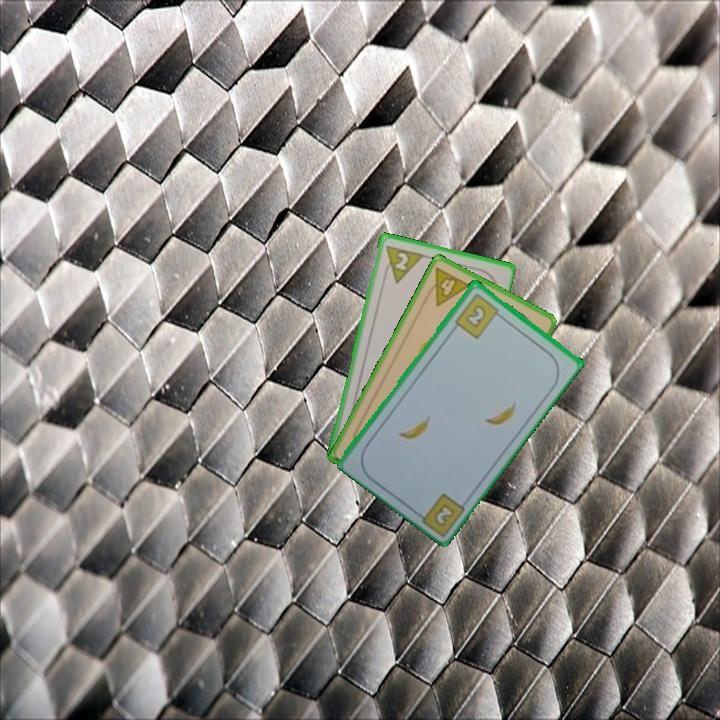2b: (451, 289, 506, 341), (430, 500, 457, 529)
2p: (379, 241, 425, 286)
4p: (421, 263, 474, 309)
